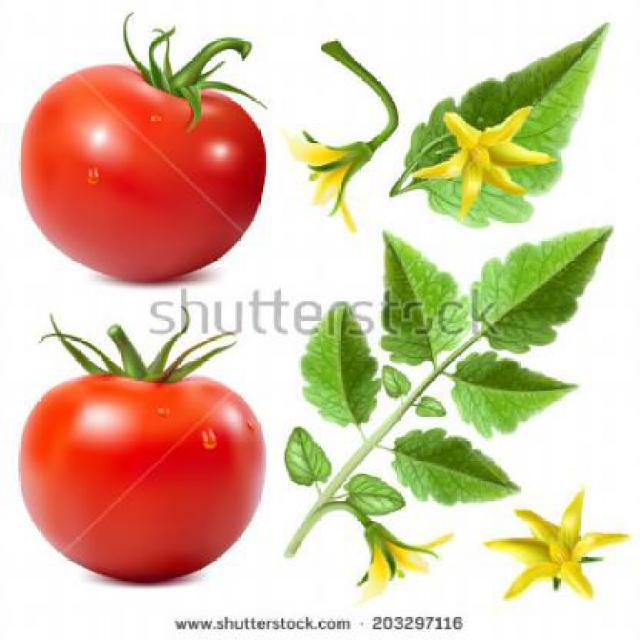Tomato bacterial spot leaf: (352, 224, 490, 384), (471, 208, 624, 346), (424, 352, 634, 436), (292, 290, 388, 446), (392, 426, 545, 512)
